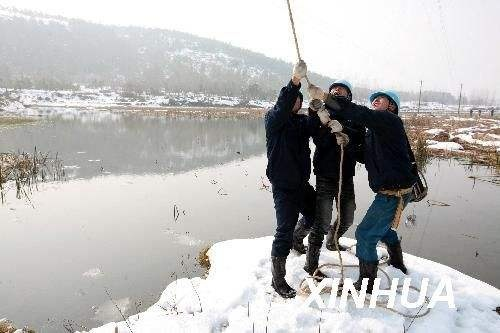blue: (368, 86, 400, 118), (326, 79, 353, 108)
